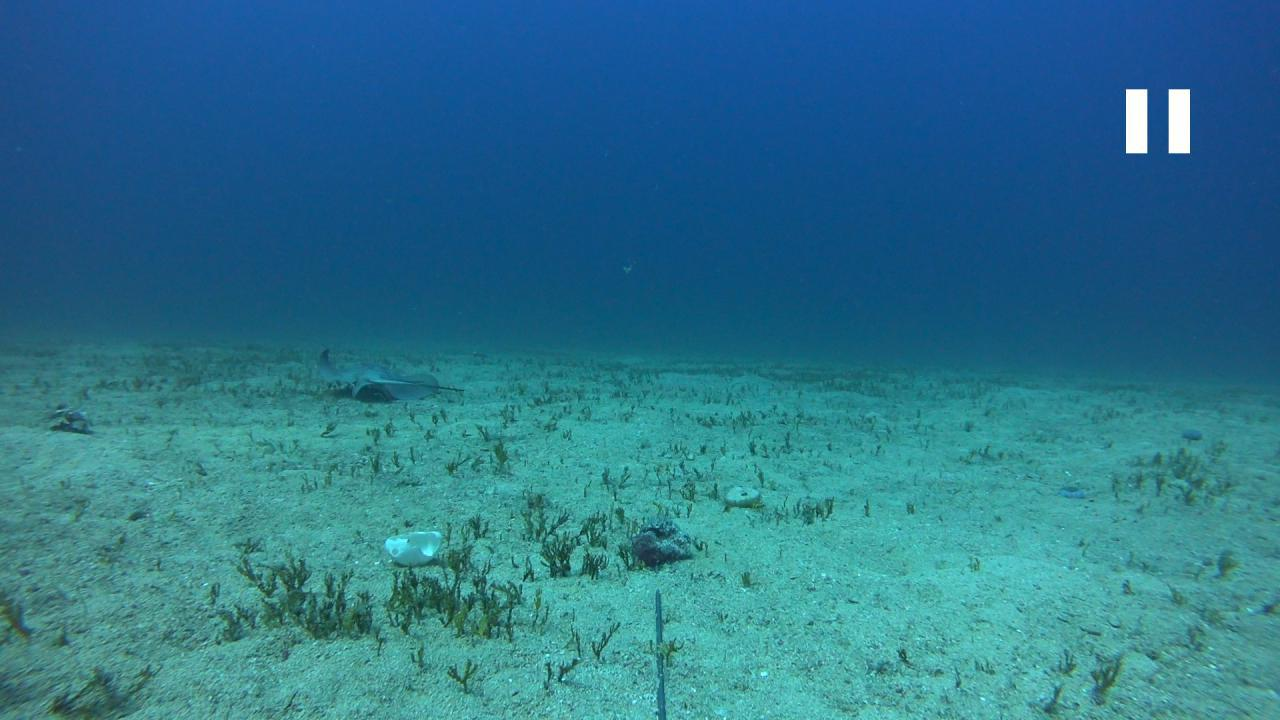dasyatis: (316, 346, 468, 399)
